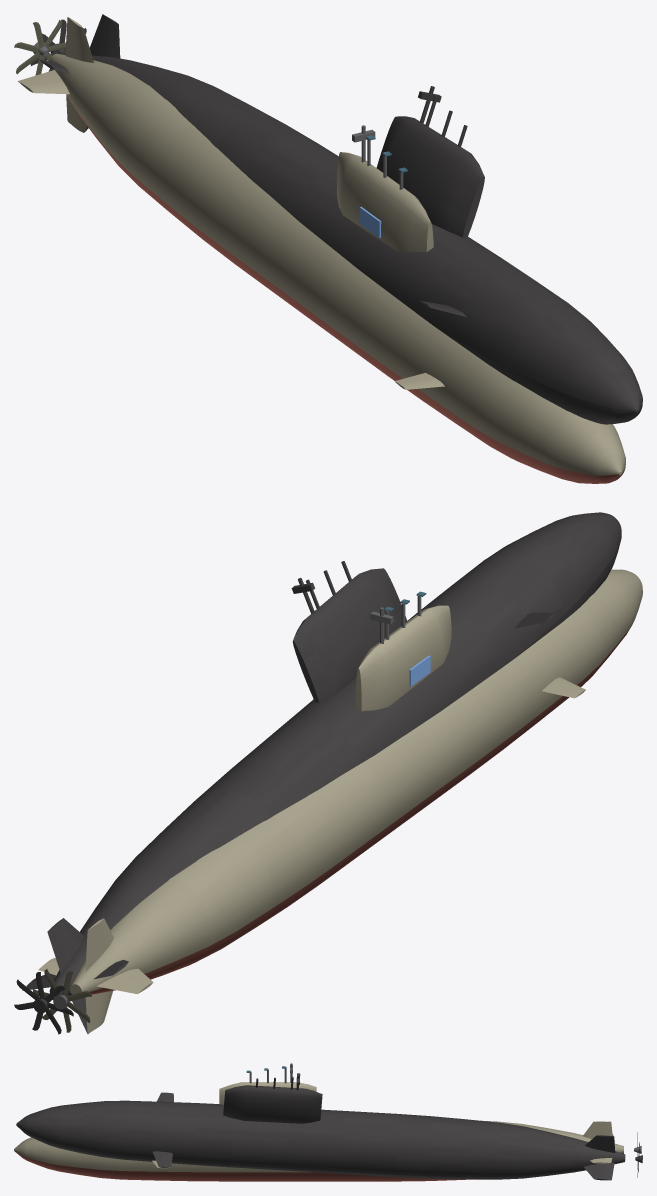
Rendered from submarine__type_209_1400.glb.
The picture shows the model from 3 angles, top to bottom: view 1: azimuth 30°, elevation 25°; view 2: azimuth 150°, elevation 25°; view 3: azimuth 270°, elevation 25°; orthographic projection. The views are drawn at different scales.
Parts seen in each view (by area): view 1: Hull_Mesh, Wreck; view 2: Hull_Mesh, Wreck; view 3: Wreck, Hull_Mesh.
Part boxes in pixels (box(x1,y1,x2,y2)): Hull_Mesh: box(14, 17, 625, 483); Wreck: box(30, 14, 642, 424); Hull_Mesh: box(33, 569, 642, 1033); Wreck: box(14, 512, 621, 1034); Wreck: box(16, 1073, 642, 1180); Hull_Mesh: box(14, 1066, 641, 1181).
Size of what is drawn, in the model's own units: 10.88 by 13.34 by 61.38.
